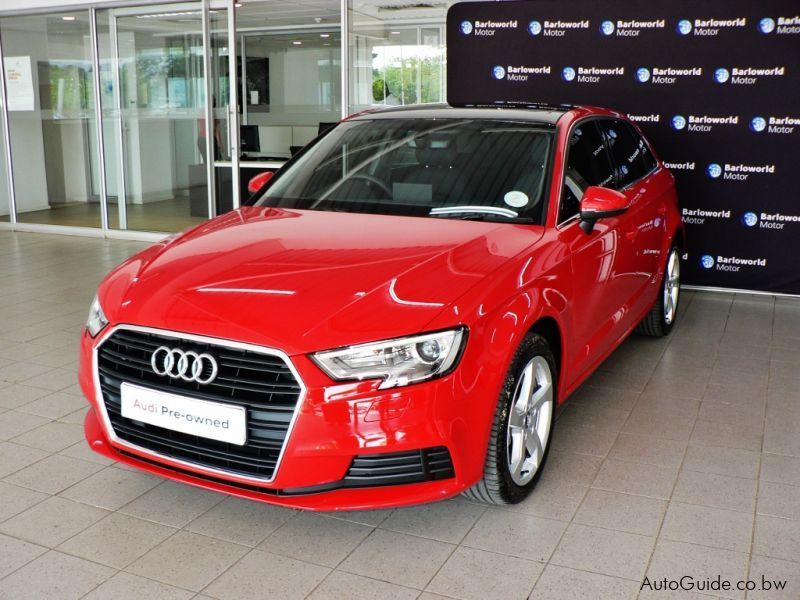car: (69, 95, 686, 517)
